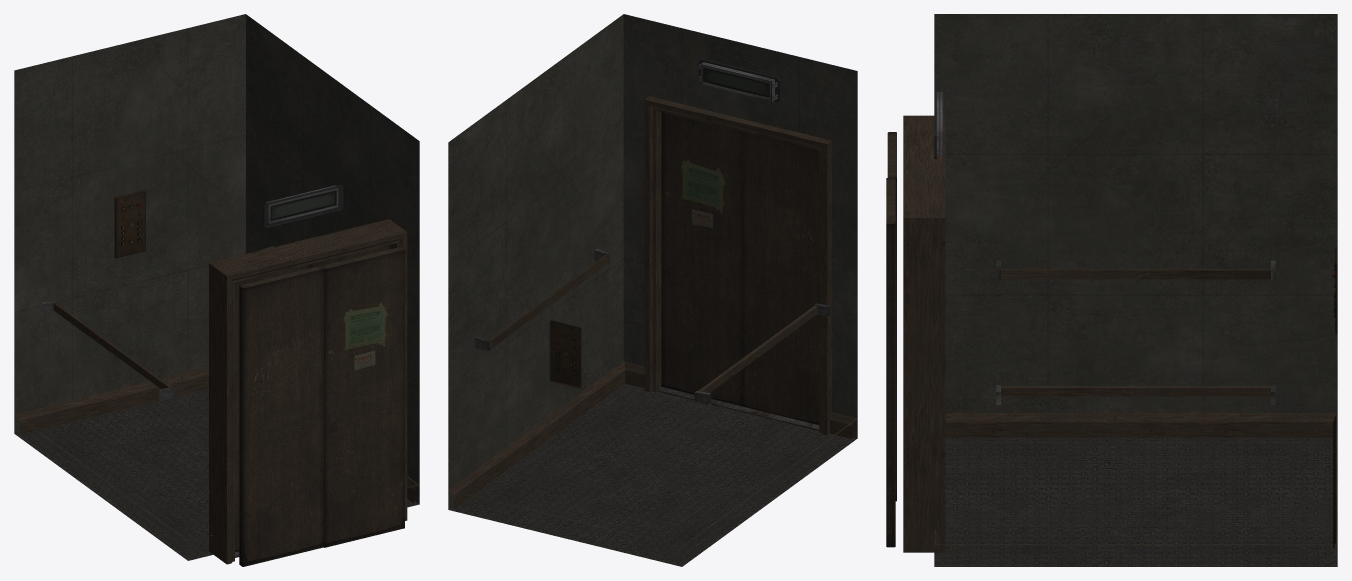
File: elevator_2.obj
The picture shows the model from 3 angles, left to right: view 1: azimuth 30°, elevation 25°; view 2: azimuth 150°, elevation 25°; view 3: azimuth 270°, elevation 25°; orthographic projection. The views are drawn at different scales.
Visible parts, largest first — view 1: elevator_2, elevator_door_3_b, elevator_door_3_a, elevator_door_4_b; view 2: elevator_2, elevator_door_4_a, elevator_door_4_b; view 3: elevator_2, elevator_door_3_a, elevator_door_3_b.
Boxes of the visible parts, box(x1,y1,x2,y2) form: elevator_2: box(14, 14, 419, 564); elevator_door_3_b: box(239, 266, 323, 566); elevator_door_3_a: box(321, 247, 404, 547); elevator_door_4_b: box(235, 264, 309, 552); elevator_2: box(448, 14, 857, 566); elevator_door_4_a: box(661, 112, 742, 406); elevator_door_4_b: box(742, 132, 819, 424); elevator_2: box(903, 14, 1337, 566); elevator_door_3_a: box(886, 178, 895, 547); elevator_door_3_b: box(887, 132, 896, 501).
Bounding box in the file's own units: 2 × 3 × 2.91.
